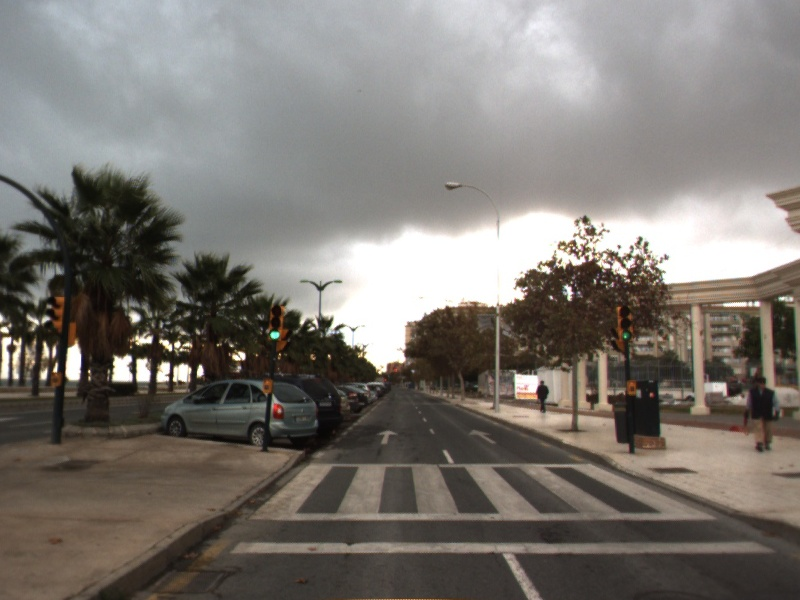STRAIGHT: (467, 427, 499, 445), (374, 428, 401, 446)
